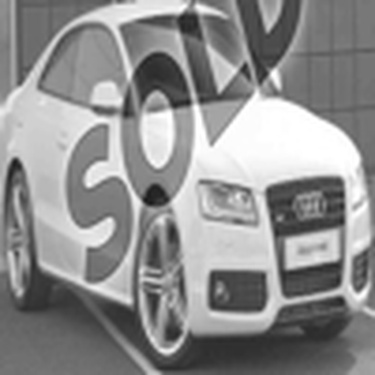car: (14, 7, 369, 348)
